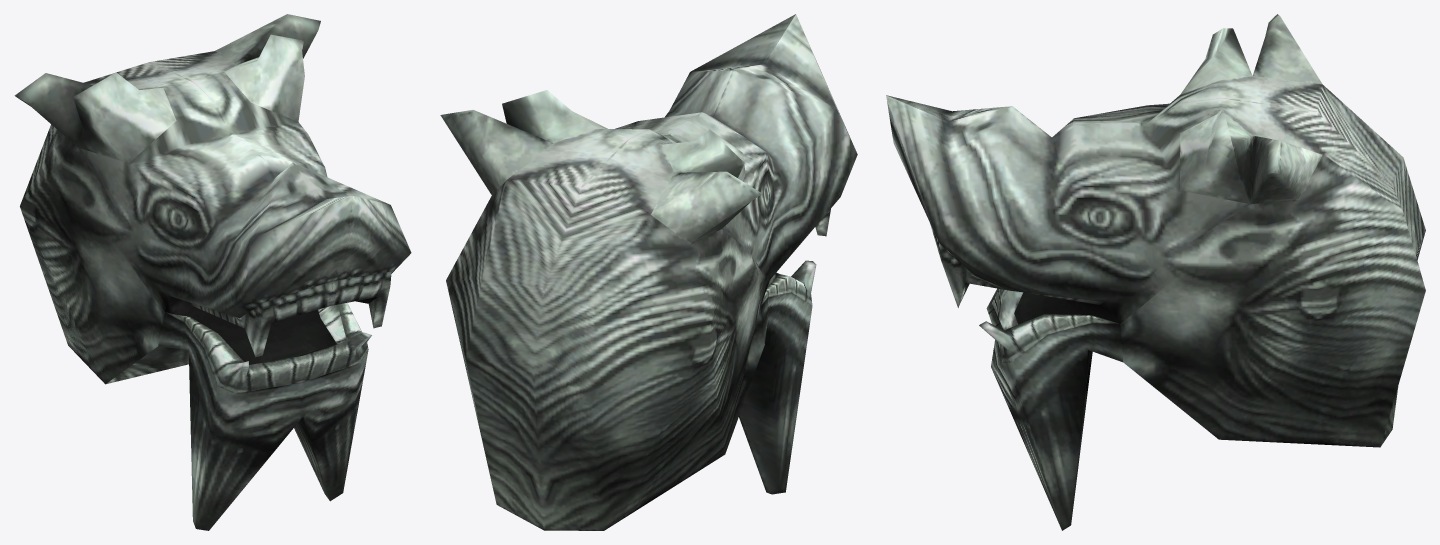
Rendered from environment_common_longtou_001_a.FBX.
The picture shows the model from 3 angles, left to right: view 1: azimuth 30°, elevation 25°; view 2: azimuth 150°, elevation 25°; view 3: azimuth 270°, elevation 25°; orthographic projection. The views are drawn at different scales.
Visible parts, largest first — view 1: environment_common_longtou_001_a; view 2: environment_common_longtou_001_a; view 3: environment_common_longtou_001_a.
Boxes of the visible parts, <box> form: environment_common_longtou_001_a: <box>14,14,411,530</box>; environment_common_longtou_001_a: <box>440,14,857,530</box>; environment_common_longtou_001_a: <box>886,14,1425,530</box>.
Bounding box in the file's own units: 477 × 605 × 687.
1 material, 1 textured.
